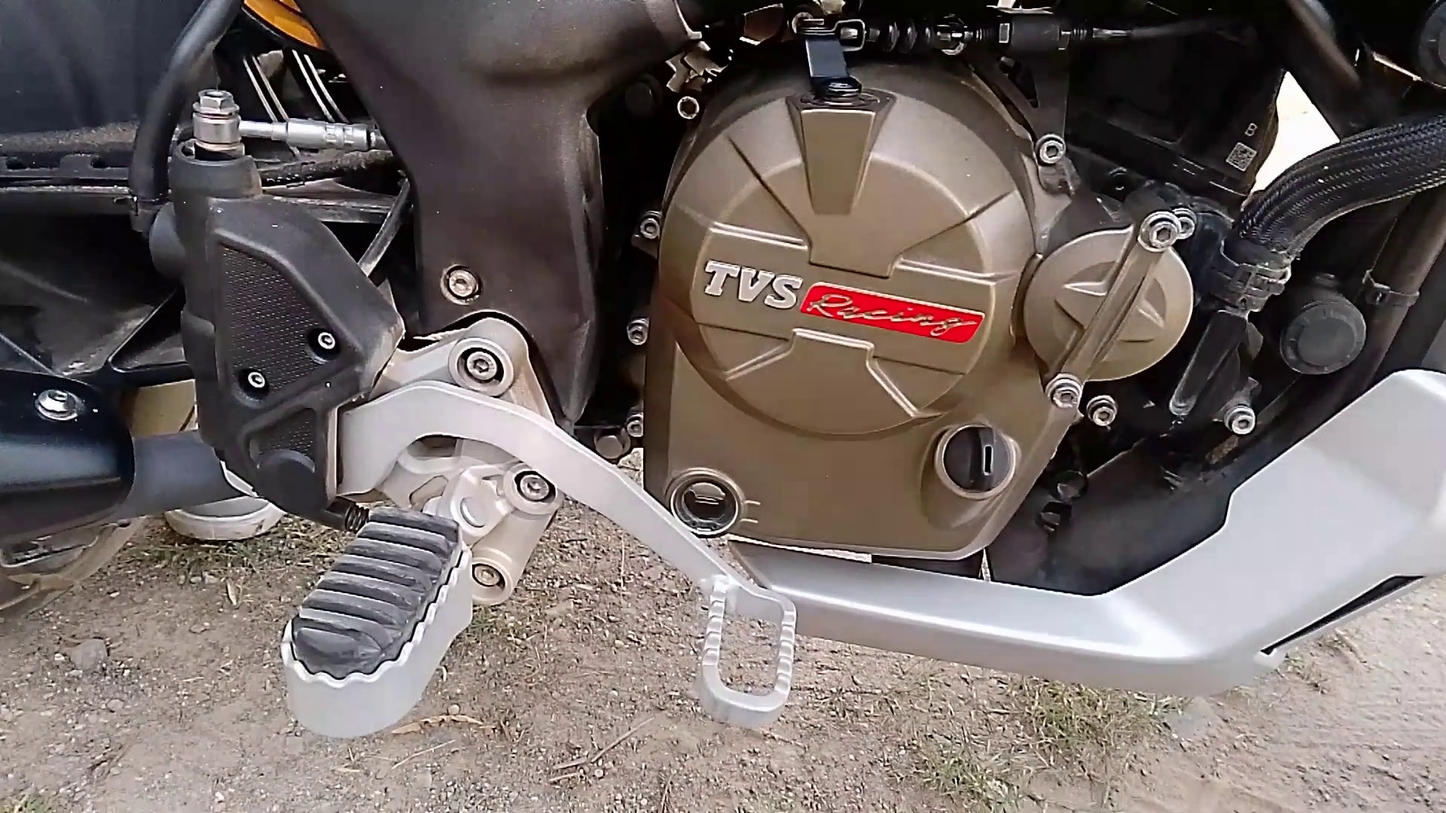bike-engine: (642, 63, 1202, 560)
bike-engine-level: (667, 462, 750, 538)
bike-oil-cap: (930, 416, 1029, 498)
